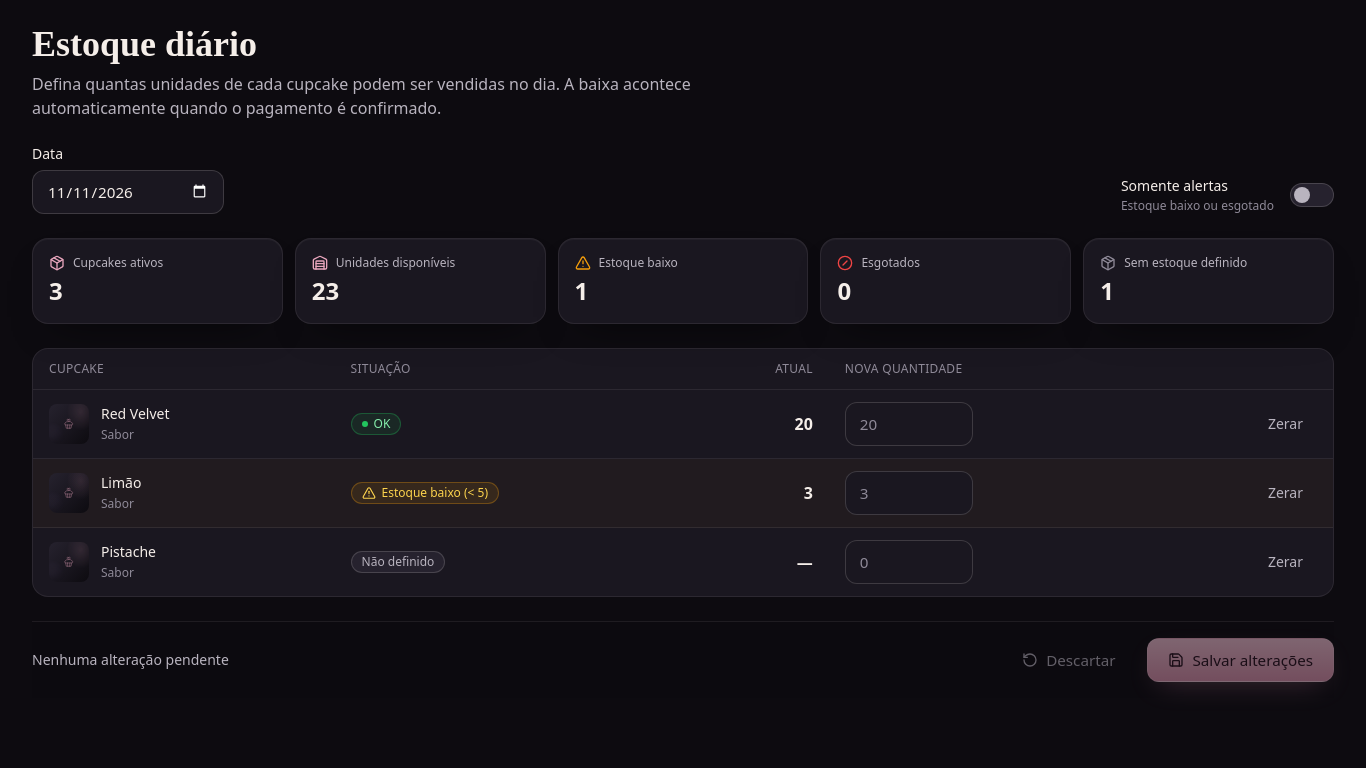
Test case: AdminStockPage (US17) › mostra alertas, salva em lote só o que mudou e zera um item
The width and height of the screenshot is (1366, 768).
expect the text "Estoque baixo (< 5)" is shown: met, box left=350, top=482, right=499, bottom=504
expect the text "Não definido" is shown: met, box left=350, top=551, right=445, bottom=573
Type "25" into the number field labelled "Red Velvet Sabor".
click(909, 424); type("25")  # box left=845, top=402, right=973, bottom=446
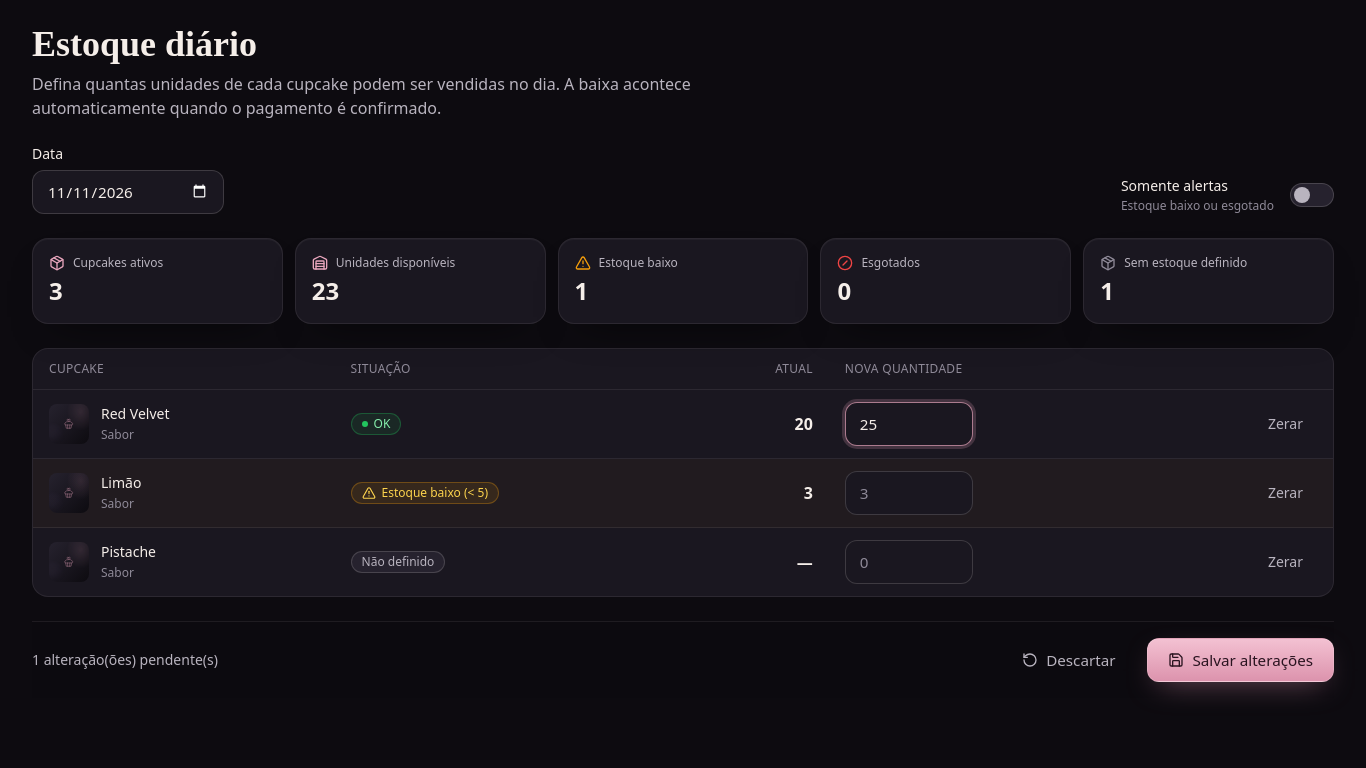
Type "10" into the number field labelled "Pistache Sabor".
click(909, 562); type("10")  # box left=845, top=540, right=973, bottom=584
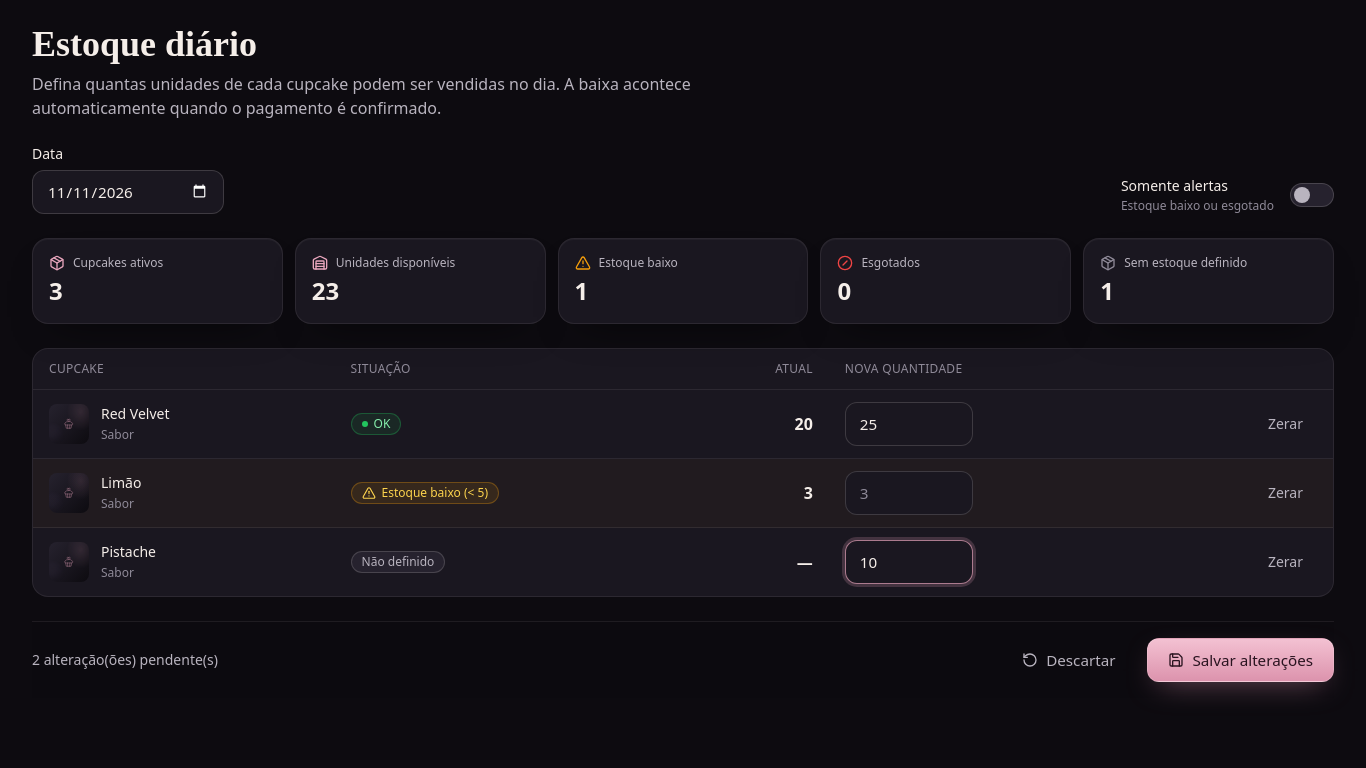
expect the text "2 alteração(ões) pendente(s)" is shown: met, box left=32, top=650, right=218, bottom=670
Click the button "Salvar alterações".
click(1241, 660)  # box left=1148, top=638, right=1334, bottom=682
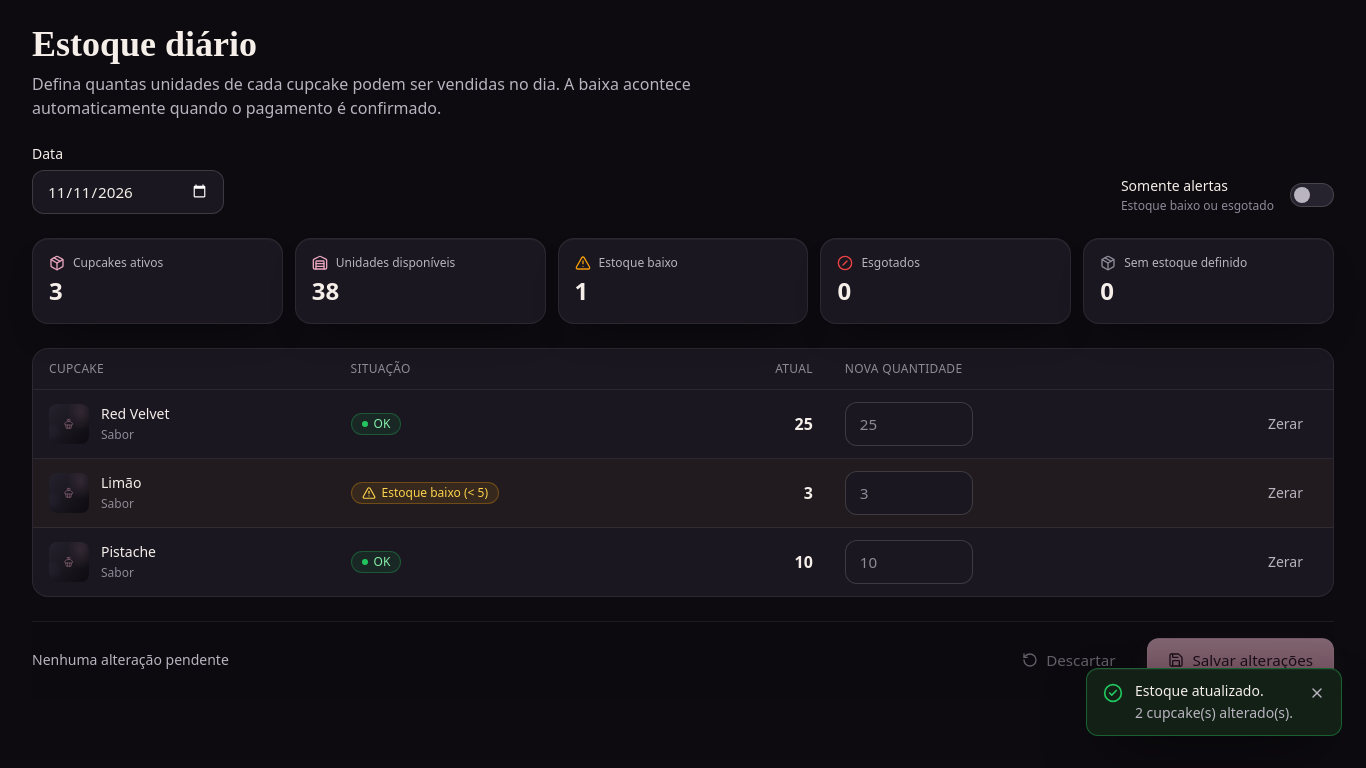
expect the text "Estoque atualizado." is shown: met, box left=1135, top=681, right=1264, bottom=700
// CA#04: zerar manualmente.
Click the button with aria-label "Zerar estoque de Red Velvet".
click(1286, 424)  # box left=1254, top=406, right=1317, bottom=442
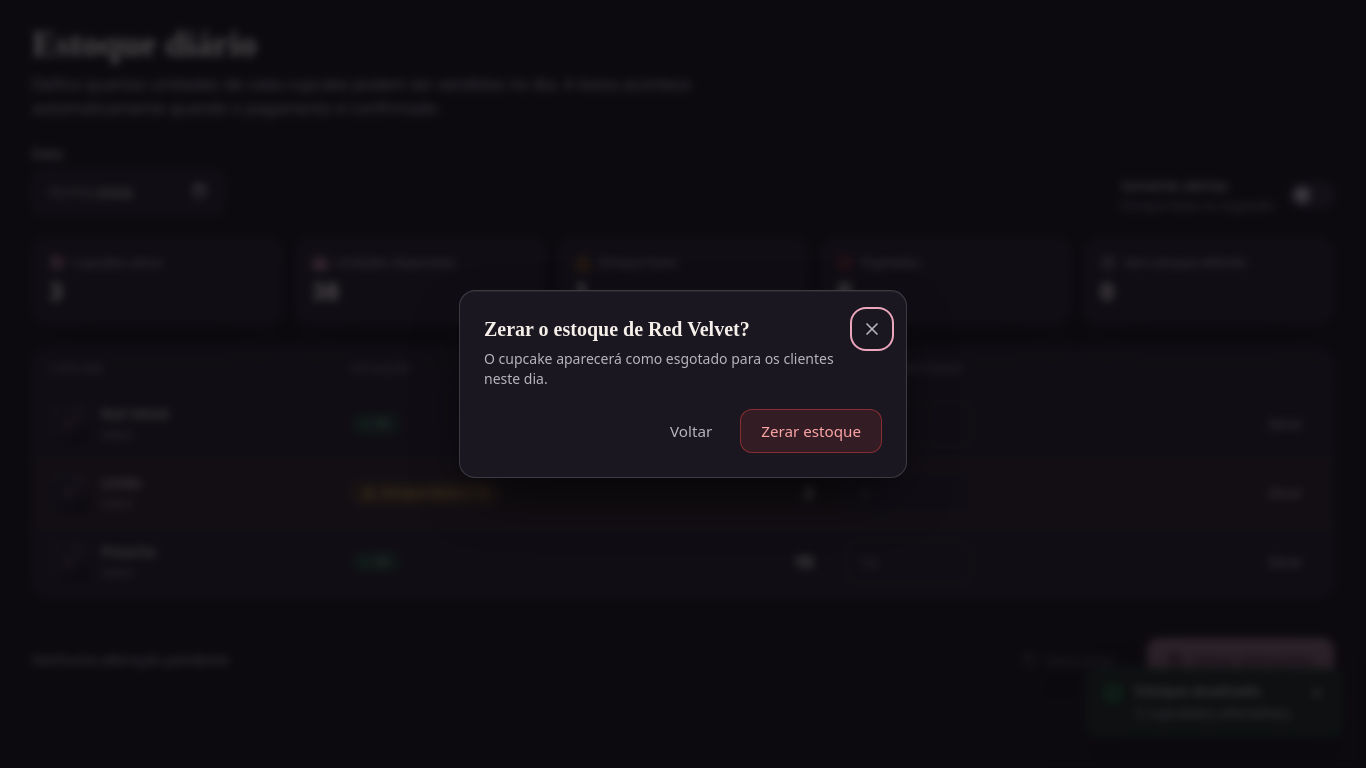
Click the button "Zerar estoque".
click(811, 431)  # box left=740, top=409, right=882, bottom=453
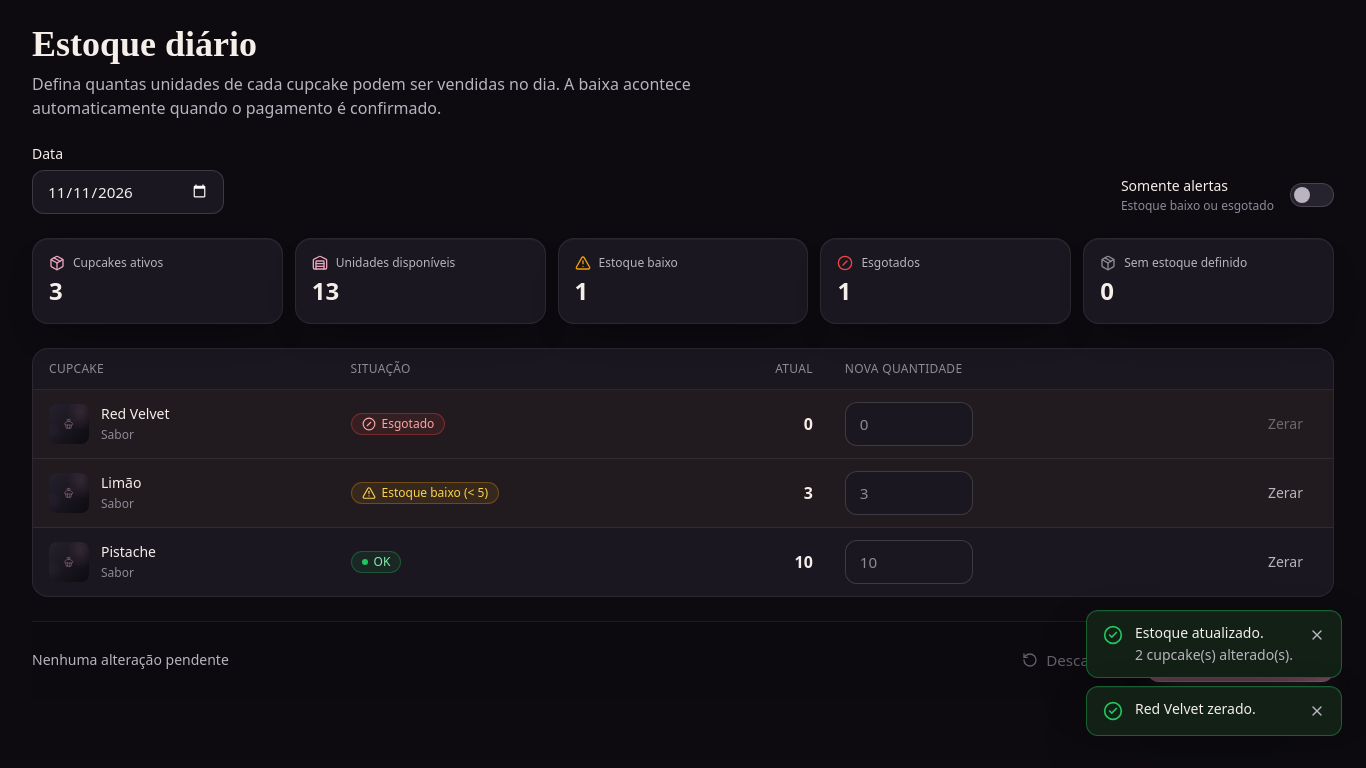
expect the text "Esgotado" is shown: met, box left=350, top=413, right=445, bottom=435
